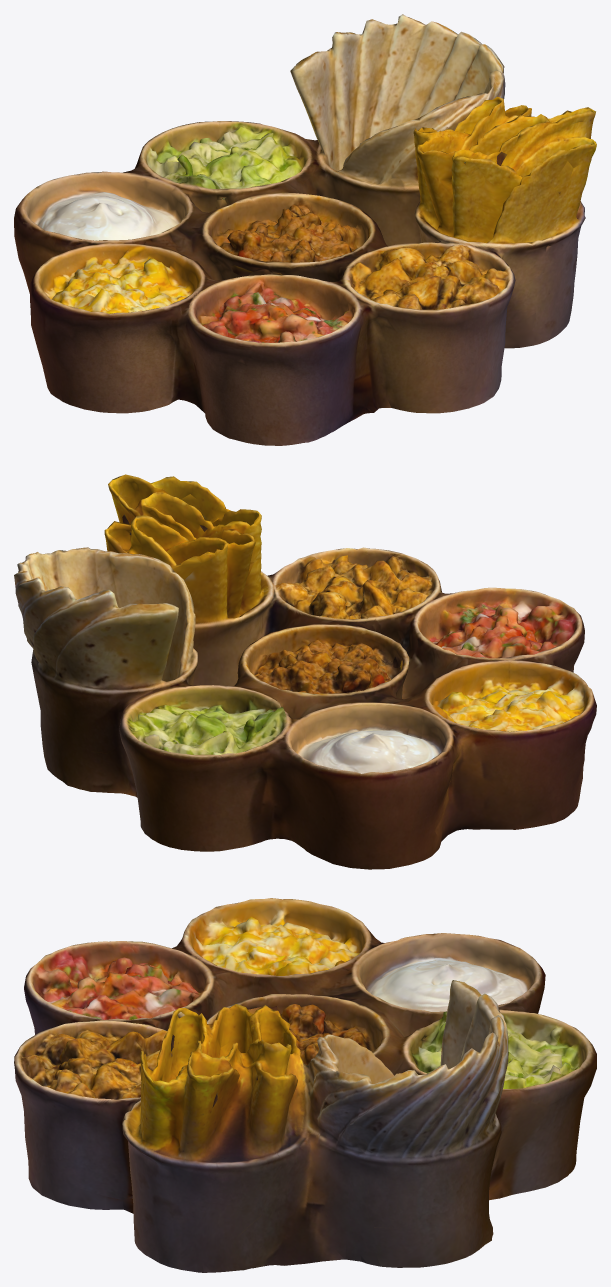
Rendered from Taco_Kit(Offers_Category)_1757460050611.glb.
3 renders of one model, top to bottom at view 1: azimuth 30°, elevation 25°; view 2: azimuth 150°, elevation 25°; view 3: azimuth 270°, elevation 25°, orthographic. The views are drawn at different scales.
Parts seen in each view (by area): view 1: 3DModel.001; view 2: 3DModel.001; view 3: 3DModel.001.
Boxes of the visible parts, left/top/right/bottom form: 3DModel.001: left=14, top=14, right=596, bottom=445; 3DModel.001: left=14, top=474, right=596, bottom=869; 3DModel.001: left=14, top=898, right=596, bottom=1272.
Size of the model in its own units: 0.3933 by 0.1575 by 0.3482.
Materials: 1 (1 with a texture image).
